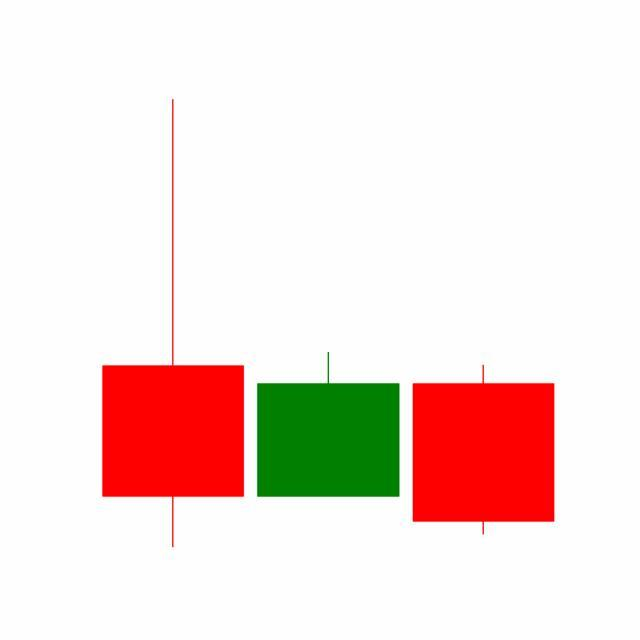Marubozu: (406, 364, 562, 538)
